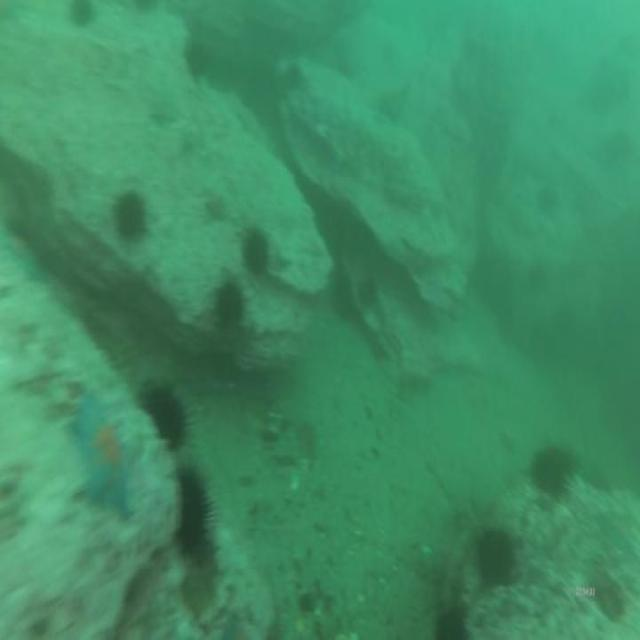echinus: (142, 382, 188, 444), (477, 526, 514, 590), (181, 472, 209, 547), (532, 449, 575, 491), (111, 196, 146, 239), (216, 278, 241, 330), (330, 274, 354, 322), (244, 229, 268, 277), (185, 35, 208, 77), (356, 275, 378, 310)
starfish: (74, 398, 133, 518)
